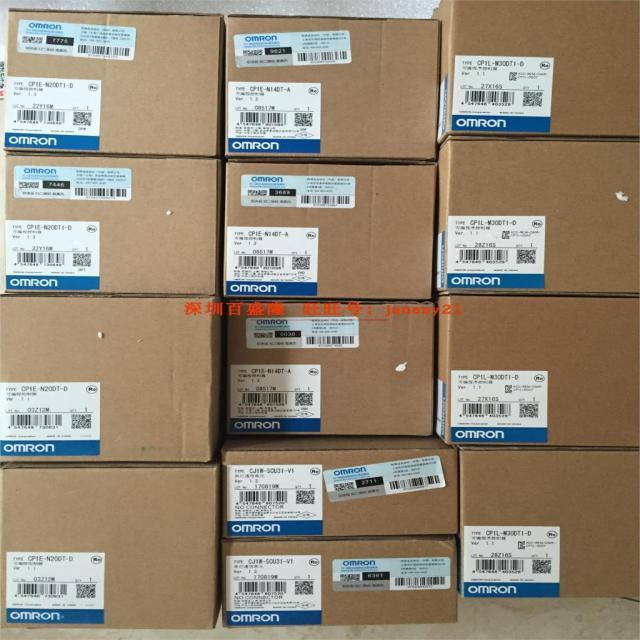box: (0, 452, 221, 640), (0, 296, 225, 472), (213, 0, 440, 166), (430, 126, 640, 302), (430, 285, 640, 454), (6, 5, 227, 164), (0, 148, 228, 294), (216, 160, 449, 302), (430, 0, 640, 154), (218, 297, 441, 442), (449, 440, 640, 602), (211, 424, 464, 536), (221, 538, 462, 634)
